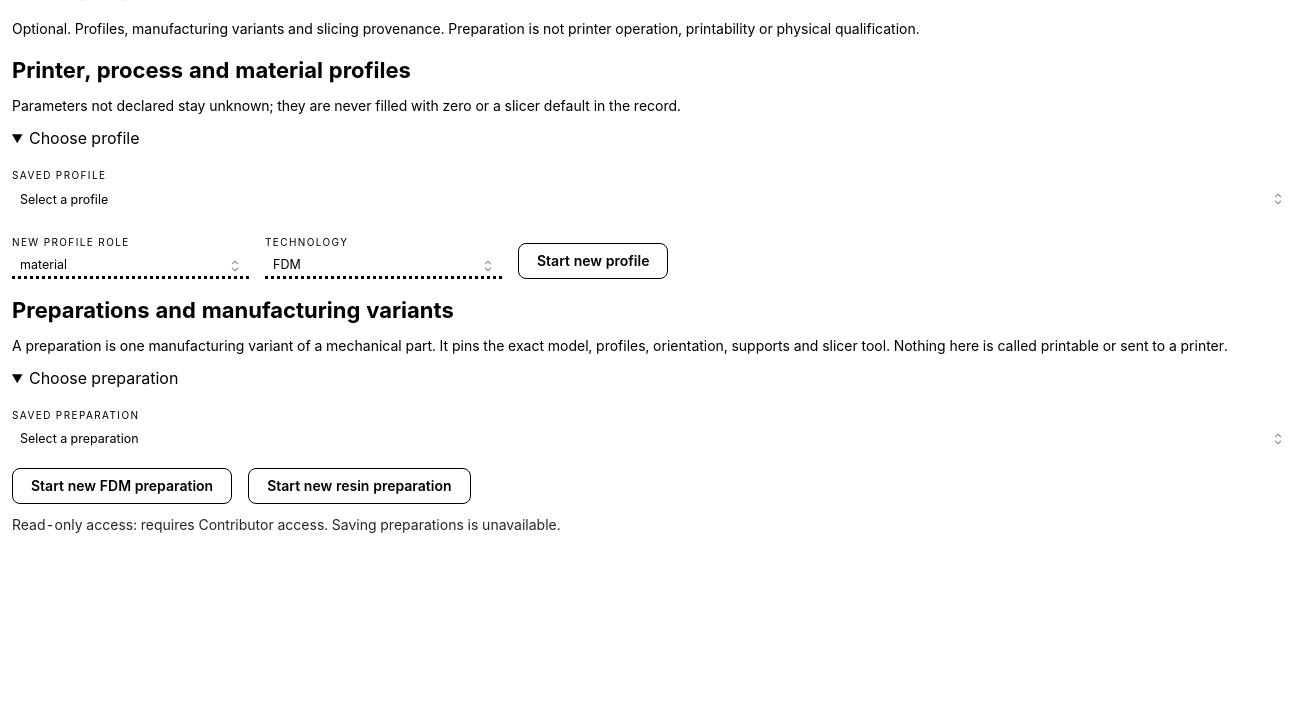
unavailable slicing explains why and who must act
Click the dropdown labelled "Saved preparation" at {"x": 652, "y": 439}, box [12, 426, 1292, 452]
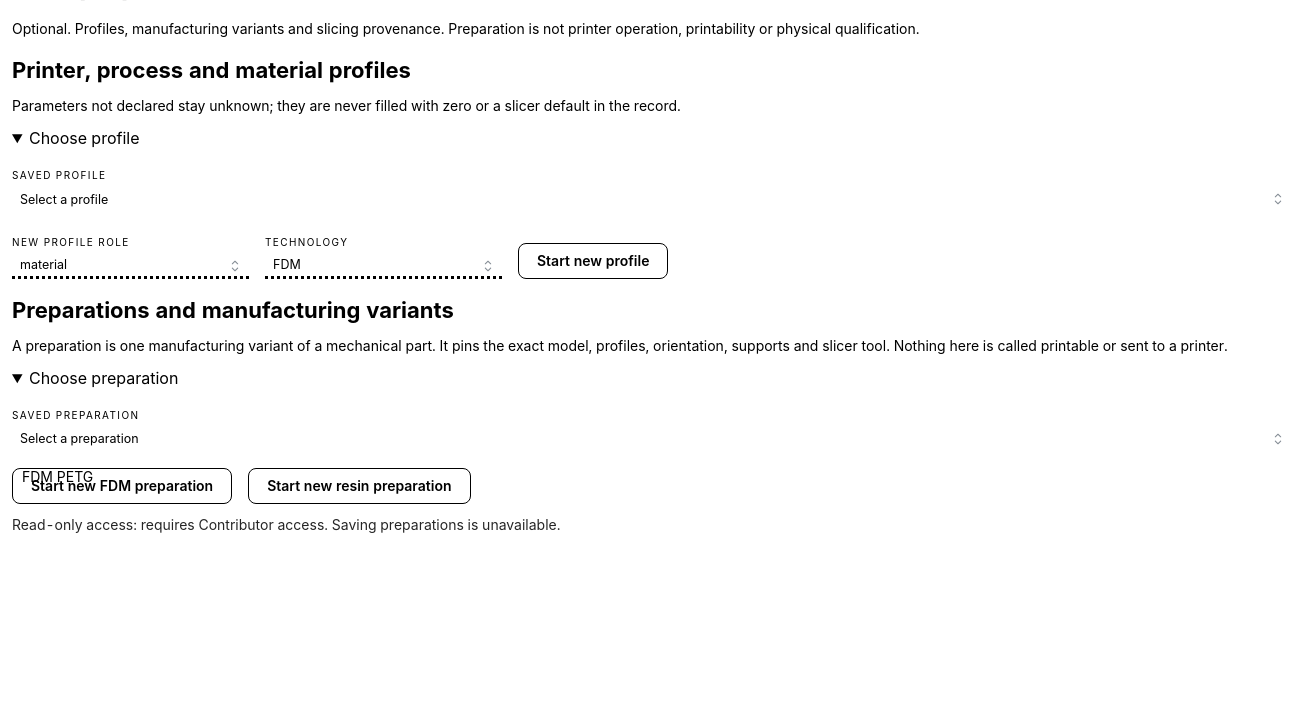
Click the option "FDM PETG" at {"x": 58, "y": 476}, box [22, 468, 93, 485]
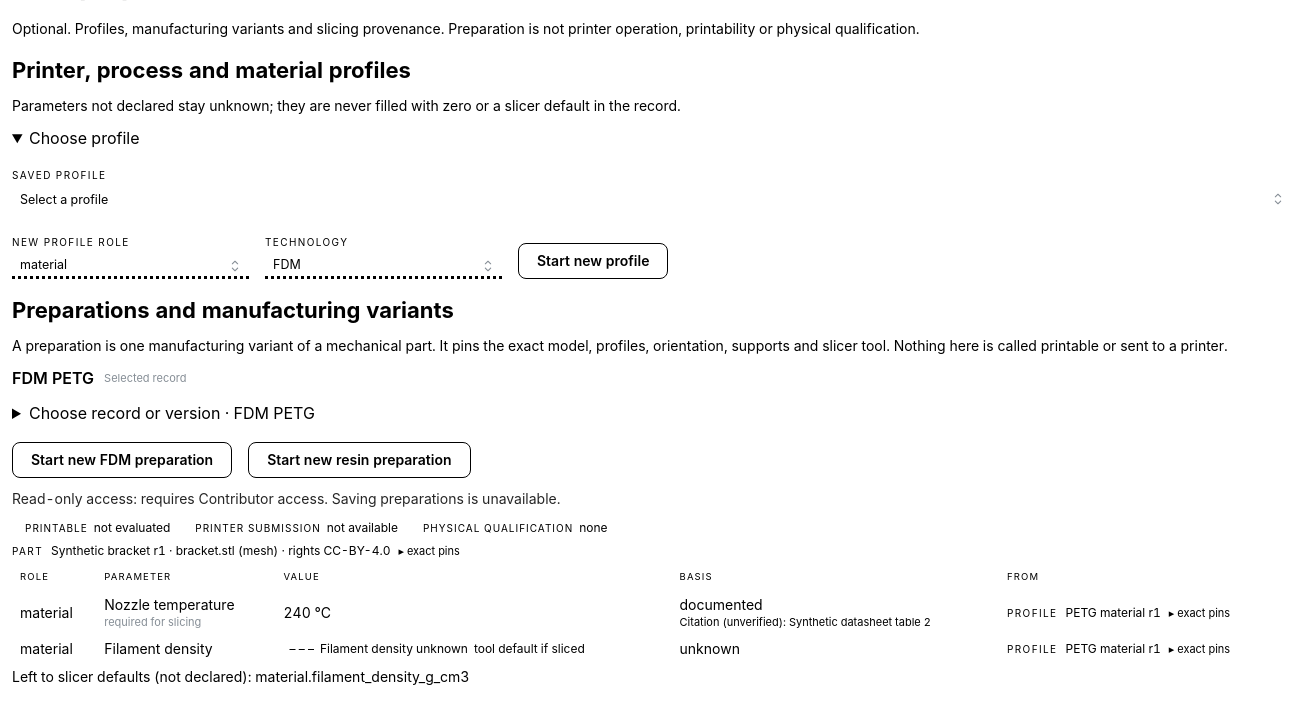
Expected: the text "Synthetic bracket r1 · bracket.stl (mesh) · rights CC-BY-4.0" is shown, [51, 542, 390, 560]
Click the heading "Choose record or version · FDM PETG" at {"x": 172, "y": 413}, box [29, 403, 315, 423]
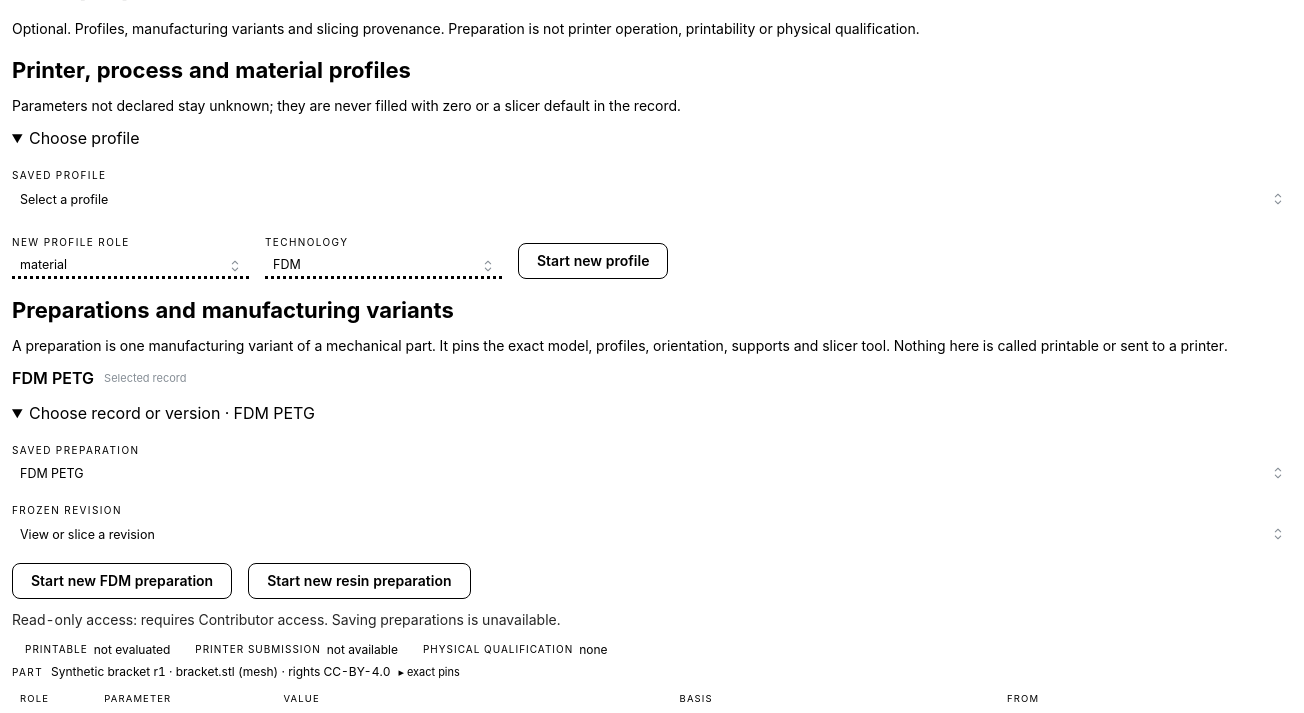
Click the dropdown labelled "Frozen revision" at {"x": 652, "y": 534}, box [12, 521, 1292, 547]
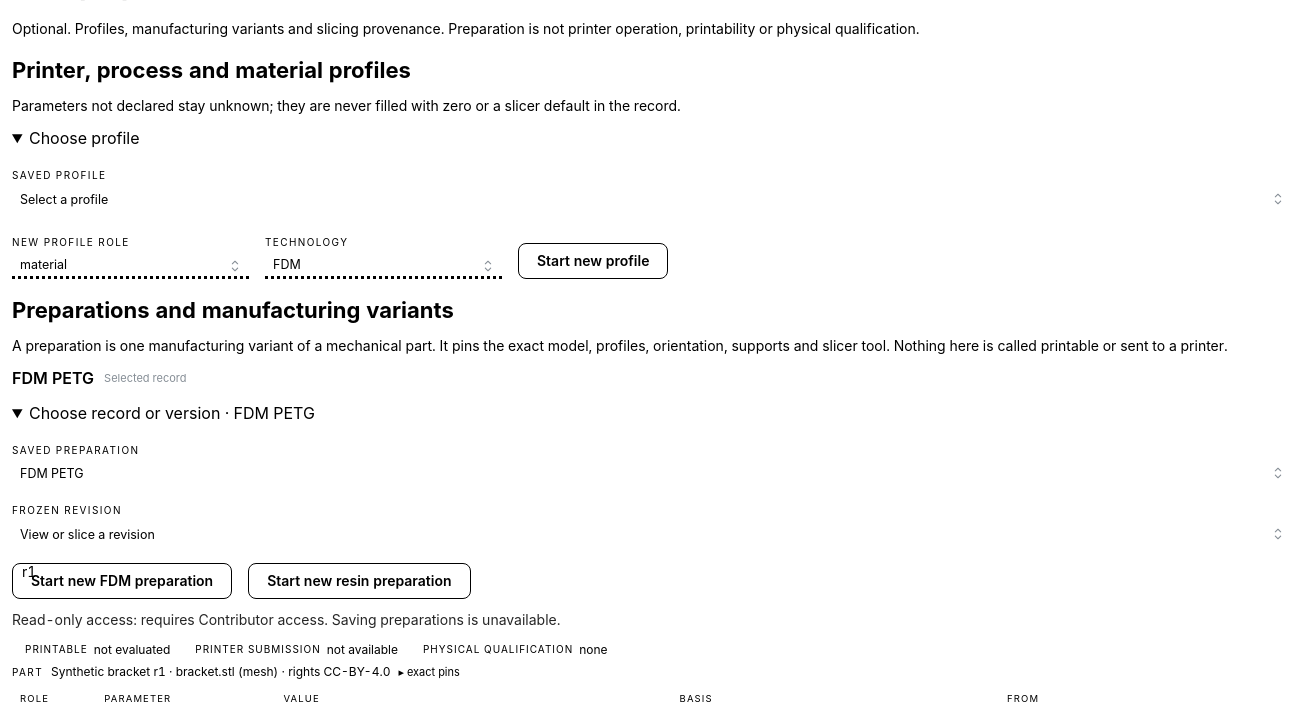
Click the option "r1" at {"x": 29, "y": 572}, box [22, 563, 36, 580]
(page scrolled)
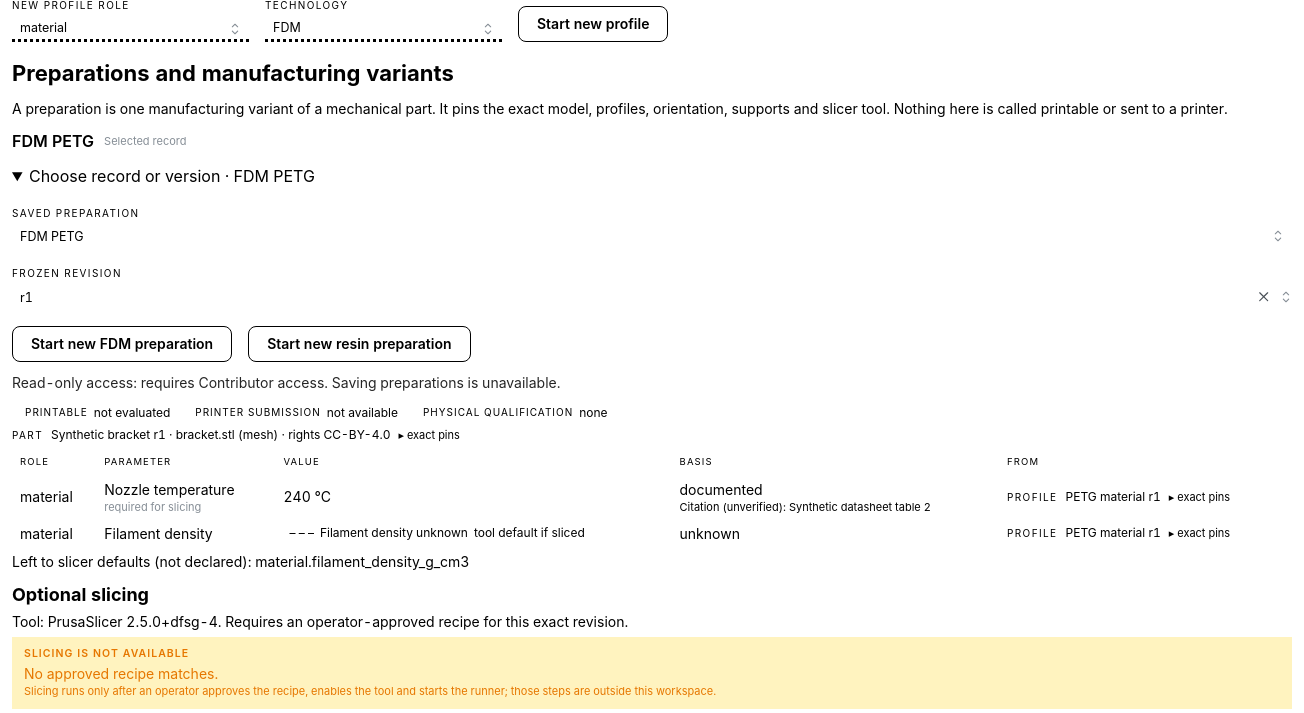
Expected: the text "Slicing is not available" is shown, [24, 646, 189, 662]
Expected: the text "No approved recipe matches." is shown, [24, 665, 218, 682]
Expected: the text "operator approves the recipe" is shown, [24, 684, 716, 698]
